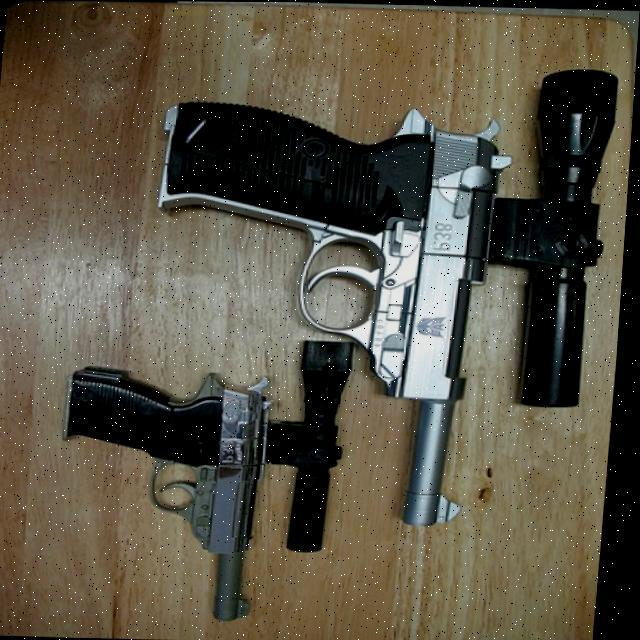pistol: (133, 56, 624, 532), (53, 333, 362, 625)
